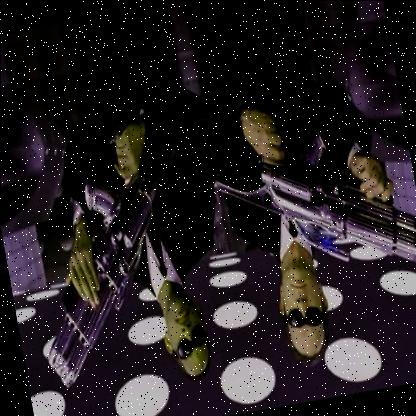rifle: (11, 117, 220, 397), (214, 81, 416, 306)
